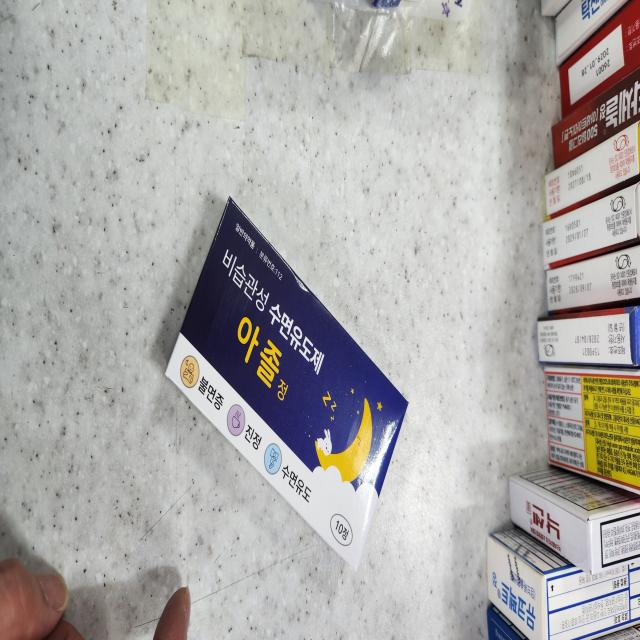box: (165, 198, 406, 566)
